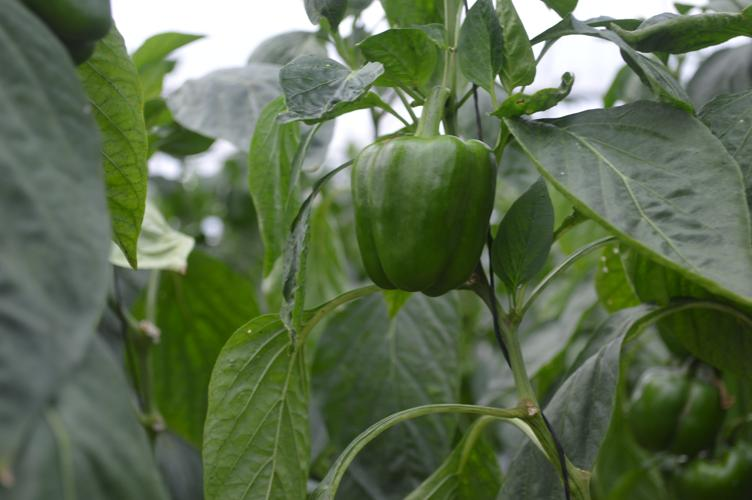BellPepper: (351, 134, 491, 302), (623, 367, 716, 451)
